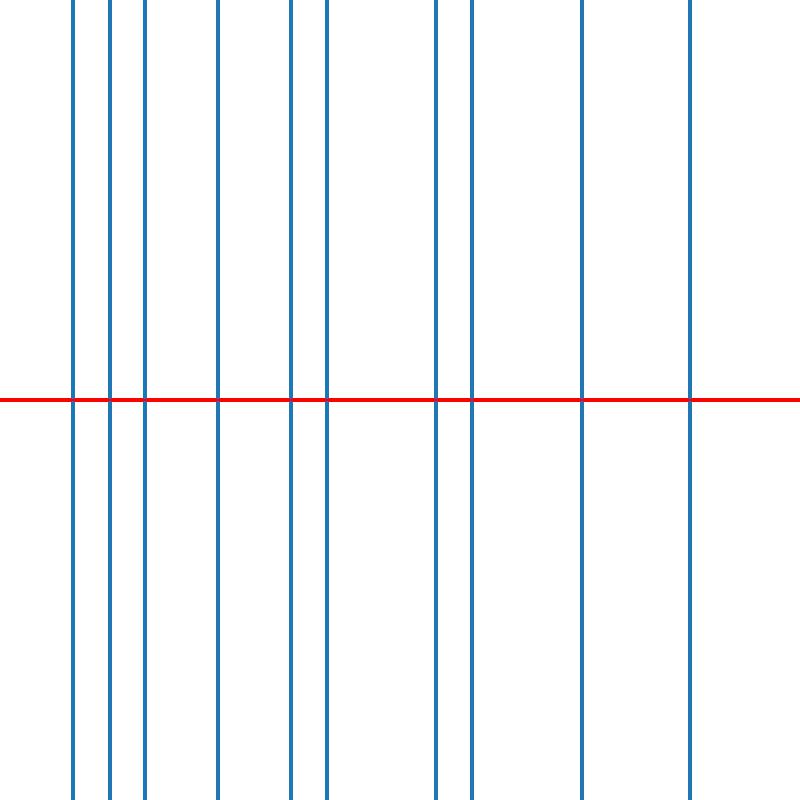root: (432, 396, 440, 404), (141, 396, 149, 404), (287, 396, 294, 404), (69, 396, 76, 404), (687, 396, 694, 404), (469, 396, 476, 404), (578, 396, 585, 404), (323, 396, 330, 404), (105, 396, 112, 404), (214, 396, 221, 404)
